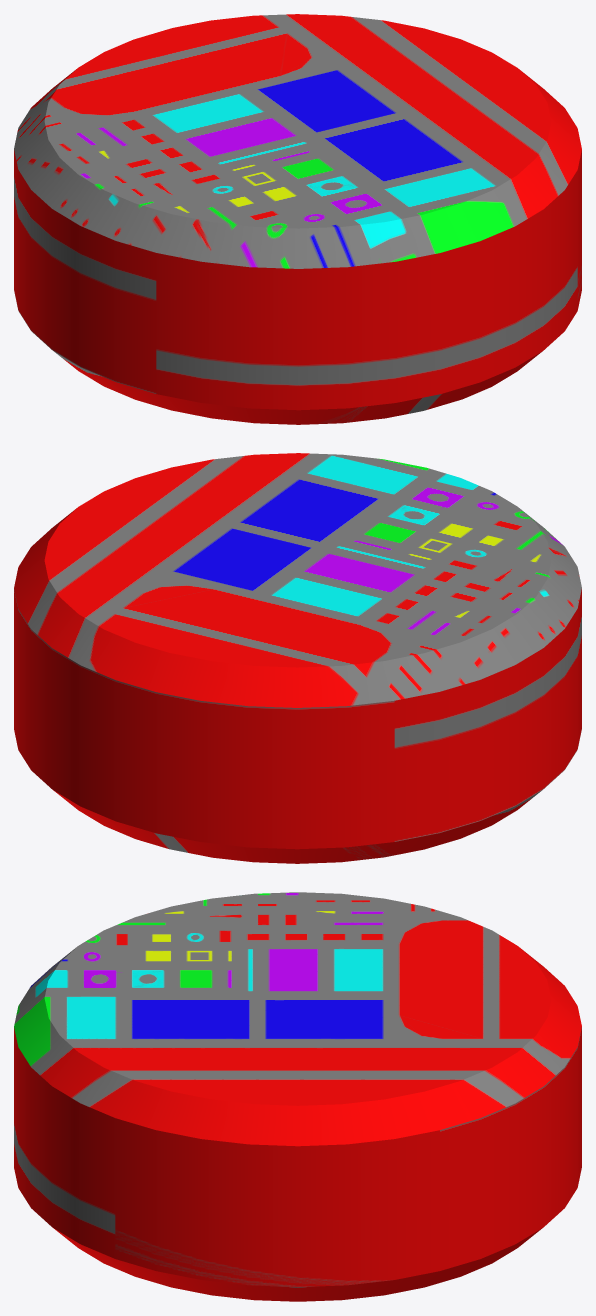
Rendered from pill2.fbx.
3 renders of one model, top to bottom at view 1: azimuth 30°, elevation 25°; view 2: azimuth 150°, elevation 25°; view 3: azimuth 270°, elevation 25°, orthographic.
Parts seen in each view (by area): view 1: Cylinder; view 2: Cylinder; view 3: Cylinder.
Boxes of the visible parts, x1=… form: Cylinder: x1=14, y1=14, x2=581, y2=424; Cylinder: x1=14, y1=453, x2=581, y2=863; Cylinder: x1=14, y1=892, x2=581, y2=1301.
Bounding box in the file's own units: 112 × 42.75 × 112.
